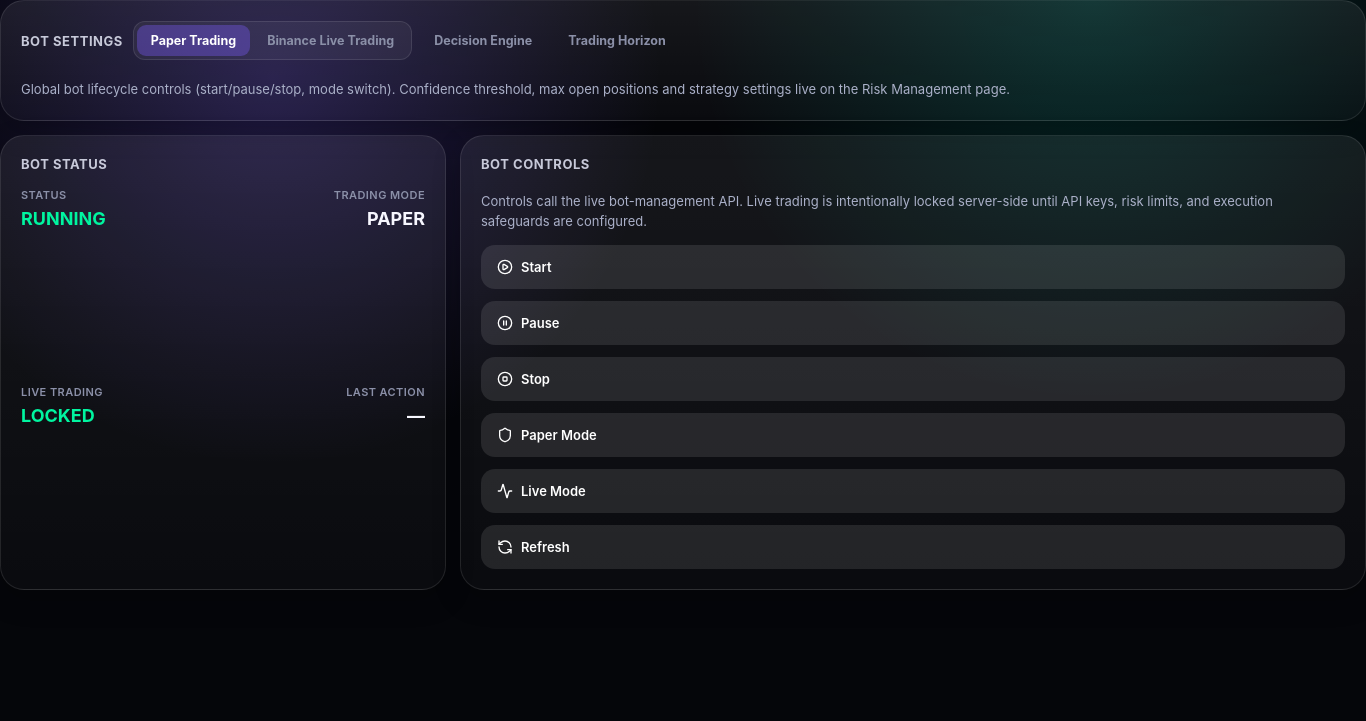
Test case: BotSettingsPage - Binance Live Trading tab › enables the button when server live lock is on and signed read is connected
Click the tab "Binance Live Trading" at (331, 40), box x1=253 y1=25 x2=408 y2=56
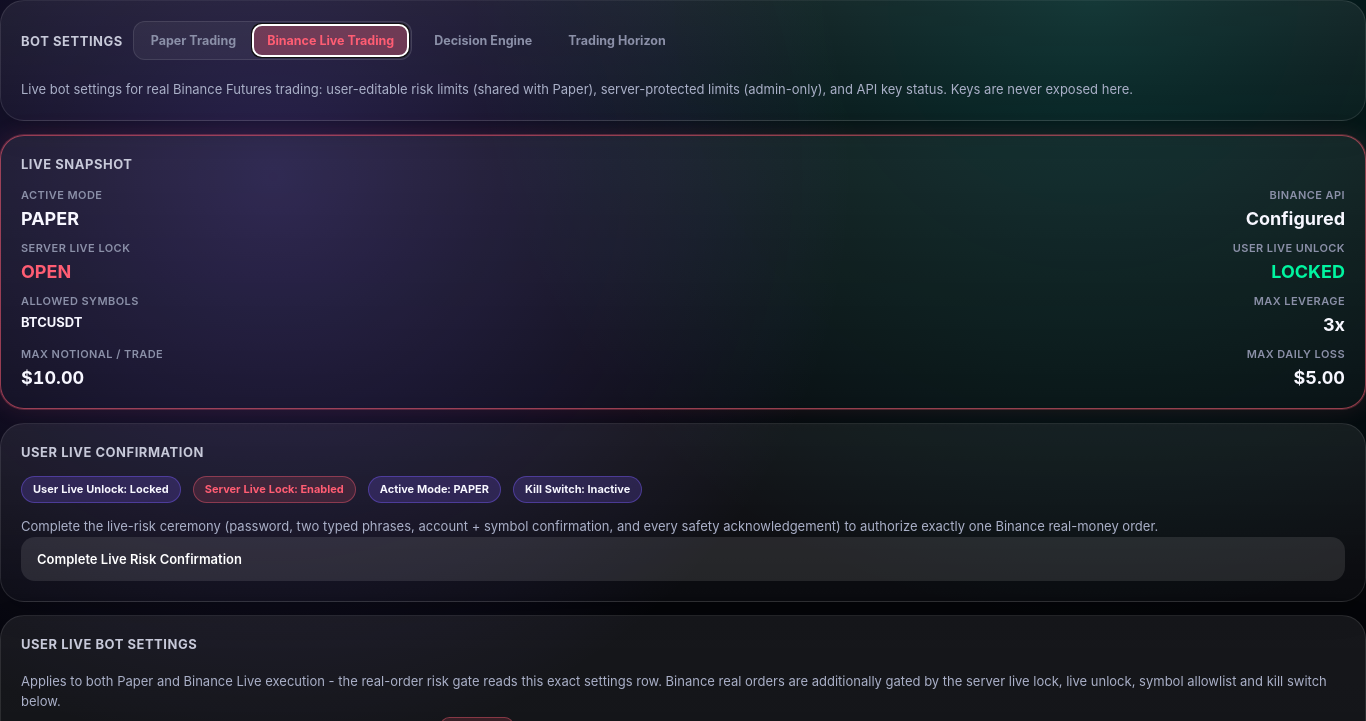
Now the button "Complete Live Risk Confirmation" is enabled, box x1=21 y1=536 x2=1345 y2=580
